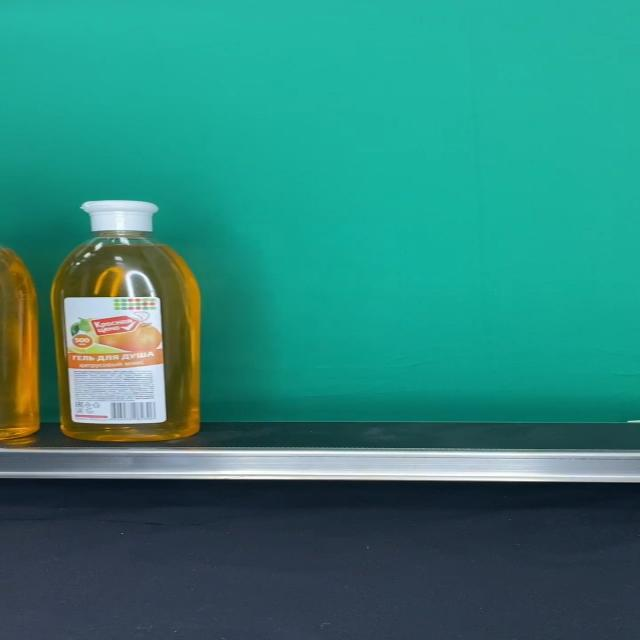Bottle: (51, 200, 202, 441)
Cap: (80, 200, 159, 232)
